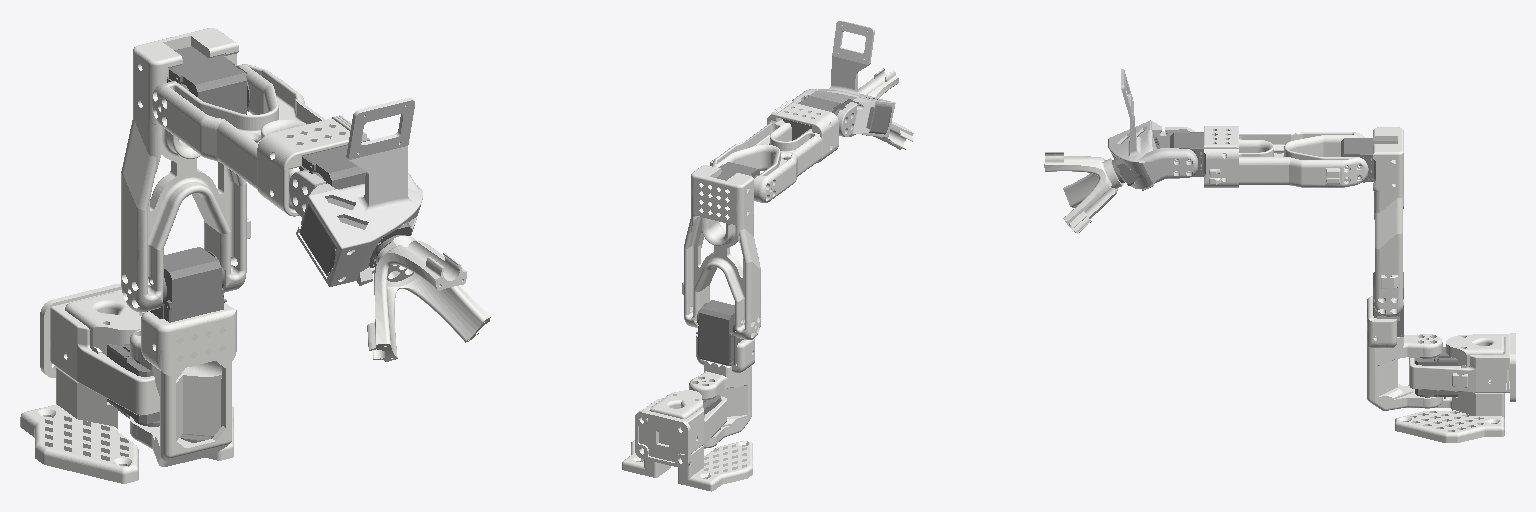
robot.urdf — debugger_arm:
<!--URDF generated by ONSHAPE BY PTC INC, 1.222-->
<robot name="debugger_arm">
    <link name="base__1_">
        <inertial>
            <mass value="1e-09" />
            <origin xyz="0 0 0" rpy="0 -0 0" />
            <inertia ixx="4e-14" ixy="0" ixz="0" iyy="4e-14" iyz="0" izz="4e-14" />
        </inertial>
    </link>
    <link name="base_mount">
        <inertial>
            <mass value="7.95519e-05" />
            <origin xyz="-1.36887e-05 0.0300135 0.244735" rpy="0 -0 0" />
            <inertia ixx="6.86392e-08" ixy="-5.77474e-12" ixz="-2.51909e-11" iyy="8.00402e-08" iyz="1.28031e-08" izz="7.96026e-08" />
        </inertial>
        <visual>
            <origin xyz="0 0 0" rpy="0 -0 0" />
            <geometry>
                <mesh filename="package://debugger_arm/meshes/base_mount.stl" scale="1 1 1" />
            </geometry>
            <material name="0.964706_0.964706_0.952941_0.000000_0.000000">
                <color rgba="0.964706 0.964706 0.952941 1" />
            </material>
        </visual>
    </link>
    <link name="motor_holder_so101_wrist_v1_1__实体1">
        <inertial>
            <mass value="1.36708e-05" />
            <origin xyz="-0.002561 0.0113496 0.0164718" rpy="0 -0 0" />
            <inertia ixx="7.44577e-09" ixy="1.14218e-11" ixz="-1.7454e-12" iyy="5.87482e-09" iyz="2.91402e-11" izz="3.3486e-09" />
        </inertial>
        <visual>
            <origin xyz="0.0372499 0.04745 0.0166" rpy="0 -0 0" />
            <geometry>
                <mesh filename="package://debugger_arm/meshes/Motor_holder_SO101_Wrist_v1_1____1.stl" scale="1 1 1" />
            </geometry>
            <material name="0.964706_0.964706_0.952941_0.000000_0.000000">
                <color rgba="0.964706 0.964706 0.952941 1" />
            </material>
        </visual>
    </link>
    <link name="part_3">
        <inertial>
            <mass value="3.13297e-05" />
            <origin xyz="0.0200678 0.000498329 -0.0262571" rpy="0 -0 0" />
            <inertia ixx="1.8757e-08" ixy="8.0332e-10" ixz="2.13065e-09" iyy="2.04322e-08" iyz="1.26817e-09" izz="2.13861e-08" />
        </inertial>
        <visual>
            <origin xyz="-0.1374 -0.000308994 -0.0169166" rpy="0 -0 0" />
            <geometry>
                <mesh filename="package://debugger_arm/meshes/Part_3.stl" scale="1 1 1" />
            </geometry>
            <material name="0.917647_0.917647_0.917647_0.000000_0.000000">
                <color rgba="0.917647 0.917647 0.917647 1" />
            </material>
        </visual>
    </link>
    <link name="probe_tip">
        <inertial>
            <mass value="1e-09" />
            <origin xyz="0 0 0" rpy="0 -0 0" />
            <inertia ixx="4e-14" ixy="0" ixz="0" iyy="4e-14" iyz="0" izz="4e-14" />
        </inertial>
    </link>
    <link name="root">
        <inertial>
            <mass value="2.96998e-05" />
            <origin xyz="-0.0542807 0.139364 -0.0138119" rpy="0 -0 0" />
            <inertia ixx="2.44606e-08" ixy="4.6053e-10" ixz="-4.66638e-12" iyy="1.06942e-08" iyz="-1.50145e-09" izz="2.98909e-08" />
        </inertial>
        <visual>
            <origin xyz="-0.0541649 0.169704 -0.015181" rpy="1.5708 2.26534e-15 1.41294e-14" />
            <geometry>
                <mesh filename="package://debugger_arm/meshes/WaveShare_Mounting_Plate_SO101_v1_1____1.stl" scale="1 1 1" />
            </geometry>
            <material name="0.964706_0.964706_0.952941_0.000000_0.000000">
                <color rgba="0.964706 0.964706 0.952941 1" />
            </material>
        </visual>
        <visual>
            <origin xyz="-0.0540649 0.145086 -0.064981" rpy="1.5708 2.26534e-15 1.41294e-14" />
            <geometry>
                <mesh filename="package://debugger_arm/meshes/Base_motor_holder_SO101_v1_1____1.stl" scale="1 1 1" />
            </geometry>
            <material name="0.964706_0.964706_0.952941_0.000000_0.000000">
                <color rgba="0.964706 0.964706 0.952941 1" />
            </material>
        </visual>
    </link>
    <link name="rotation_pitch_so101_v1_1__实体1">
        <inertial>
            <mass value="4.32671e-05" />
            <origin xyz="-0.027796 0.0297539 -0.000181563" rpy="0 -0 0" />
            <inertia ixx="3.35791e-08" ixy="4.64995e-09" ixz="-3.88492e-11" iyy="1.62639e-08" iyz="2.28939e-10" izz="3.73362e-08" />
        </inertial>
        <visual>
            <origin xyz="0.012 -0.01 -2.63299e-18" rpy="0 -0 0" />
            <geometry>
                <mesh filename="package://debugger_arm/meshes/Rotation_Pitch_SO101_v1_1____1.stl" scale="1 1 1" />
            </geometry>
            <material name="0.964706_0.964706_0.952941_0.000000_0.000000">
                <color rgba="0.964706 0.964706 0.952941 1" />
            </material>
        </visual>
    </link>
    <link name="sts3215_03a_v1_1__实体1">
        <inertial>
            <mass value="3.6217e-05" />
            <origin xyz="0.019999 0.01025 0.0160271" rpy="0 -0 0" />
            <inertia ixx="5.06055e-09" ixy="0" ixz="-7.09424e-11" iyy="9.36156e-09" iyz="0" izz="7.83908e-09" />
        </inertial>
        <visual>
            <origin xyz="0.0203 0.01025 0.0159" rpy="0 -0 0" />
            <geometry>
                <mesh filename="package://debugger_arm/meshes/STS3215_03a_v1_1____1.stl" scale="1 1 1" />
            </geometry>
            <material name="0.627451_0.627451_0.627451_0.000000_0.000000">
                <color rgba="0.627451 0.627451 0.627451 1" />
            </material>
        </visual>
    </link>
    <link name="sts3215_03a_v1_1__实体1_1">
        <inertial>
            <mass value="3.6217e-05" />
            <origin xyz="0.019999 0.01025 0.0160271" rpy="0 -0 0" />
            <inertia ixx="5.06055e-09" ixy="0" ixz="-7.09424e-11" iyy="9.36156e-09" iyz="0" izz="7.83908e-09" />
        </inertial>
        <visual>
            <origin xyz="0.0203 0.01025 0.0159" rpy="0 -0 0" />
            <geometry>
                <mesh filename="package://debugger_arm/meshes/STS3215_03a_v1_1____1.stl" scale="1 1 1" />
            </geometry>
            <material name="0.627451_0.627451_0.627451_0.000000_0.000000">
                <color rgba="0.627451 0.627451 0.627451 1" />
            </material>
        </visual>
    </link>
    <link name="sts3215_03a_v1_1__实体1_2">
        <inertial>
            <mass value="3.6217e-05" />
            <origin xyz="0.016199 0.01025 -0.0157729" rpy="0 -0 0" />
            <inertia ixx="5.06055e-09" ixy="0" ixz="-7.09424e-11" iyy="9.36156e-09" iyz="0" izz="7.83908e-09" />
        </inertial>
        <visual>
            <origin xyz="0.0165 0.01025 -0.0159" rpy="0 -0 0" />
            <geometry>
                <mesh filename="package://debugger_arm/meshes/STS3215_03a_v1_1____1.stl" scale="1 1 1" />
            </geometry>
            <material name="0.627451_0.627451_0.627451_0.000000_0.000000">
                <color rgba="0.627451 0.627451 0.627451 1" />
            </material>
        </visual>
    </link>
    <link name="sts3215_03a_v1_1__实体1_3">
        <inertial>
            <mass value="3.6217e-05" />
            <origin xyz="0.019999 -0.01025 0.0160271" rpy="0 -0 0" />
            <inertia ixx="5.06055e-09" ixy="0" ixz="-7.09424e-11" iyy="9.36156e-09" iyz="0" izz="7.83908e-09" />
        </inertial>
        <visual>
            <origin xyz="0.0203 -0.01025 0.0159" rpy="0 -0 0" />
            <geometry>
                <mesh filename="package://debugger_arm/meshes/STS3215_03a_v1_1____1.stl" scale="1 1 1" />
            </geometry>
            <material name="0.627451_0.627451_0.627451_0.000000_0.000000">
                <color rgba="0.627451 0.627451 0.627451 1" />
            </material>
        </visual>
    </link>
    <link name="sts3215_03a_v1_1__实体1_4">
        <inertial>
            <mass value="3.6217e-05" />
            <origin xyz="0.019999 0.01025 0.0160271" rpy="0 -0 0" />
            <inertia ixx="5.06055e-09" ixy="0" ixz="-7.09424e-11" iyy="9.36156e-09" iyz="0" izz="7.83908e-09" />
        </inertial>
        <visual>
            <origin xyz="0.0203 0.01025 0.0159" rpy="0 -0 0" />
            <geometry>
                <mesh filename="package://debugger_arm/meshes/STS3215_03a_v1_1____1.stl" scale="1 1 1" />
            </geometry>
            <material name="0.627451_0.627451_0.627451_0.000000_0.000000">
                <color rgba="0.627451 0.627451 0.627451 1" />
            </material>
        </visual>
    </link>
    <link name="under_arm_so101_v1_1__实体1">
        <inertial>
            <mass value="6.37298e-05" />
            <origin xyz="-0.0568458 0.000467419 0.0186315" rpy="0 -0 0" />
            <inertia ixx="2.68292e-08" ixy="1.59417e-09" ixz="-7.83539e-10" iyy="9.84162e-08" iyz="3.1365e-11" izz="7.65192e-08" />
        </inertial>
        <visual>
            <origin xyz="-0.0648499 0.032 0.0182" rpy="0 -0 0" />
            <geometry>
                <mesh filename="package://debugger_arm/meshes/Under_arm_SO101_v1_1____1.stl" scale="1 1 1" />
            </geometry>
            <material name="0.964706_0.964706_0.952941_0.000000_0.000000">
                <color rgba="0.964706 0.964706 0.952941 1" />
            </material>
        </visual>
    </link>
    <link name="upper_arm_so101_v1_1__实体1">
        <inertial>
            <mass value="7.40352e-05" />
            <origin xyz="-0.063848 -0.00047956 0.0182038" rpy="0 -0 0" />
            <inertia ixx="3.44934e-08" ixy="-1.83226e-09" ixz="1.39492e-09" iyy="1.50594e-07" iyz="-6.73822e-11" izz="1.21727e-07" />
        </inertial>
        <visual>
            <origin xyz="-0.065085 -0.012 0.0182" rpy="0 -0 0" />
            <geometry>
                <mesh filename="package://debugger_arm/meshes/Upper_arm_SO101_v1_1____1.stl" scale="1 1 1" />
            </geometry>
            <material name="0.964706_0.964706_0.952941_0.000000_0.000000">
                <color rgba="0.964706 0.964706 0.952941 1" />
            </material>
        </visual>
    </link>
    <link name="wrist_roll_so101_v1_1__实体1">
        <inertial>
            <mass value="1.65318e-05" />
            <origin xyz="5.89928e-05 1.34204e-06 0.0229635" rpy="0 -0 0" />
            <inertia ixx="7.02425e-09" ixy="-1.20767e-12" ixz="2.42336e-11" iyy="7.01651e-09" iyz="-3.57081e-13" izz="7.23367e-09" />
        </inertial>
        <visual>
            <origin xyz="-0.202 0 0" rpy="0 -0 0" />
            <geometry>
                <mesh filename="package://debugger_arm/meshes/Wrist_Roll_SO101_v1_1____1.stl" scale="1 1 1" />
            </geometry>
            <material name="0.964706_0.964706_0.952941_0.000000_0.000000">
                <color rgba="0.964706 0.964706 0.952941 1" />
            </material>
        </visual>
    </link>
    <joint name="base__1_" type="fixed">
        <origin xyz="-0.03175 0.0094 0.2255" rpy="-1.5708 7.88861e-31 1.03288e-29" />
        <axis xyz="0 0 1" />
        <parent link="base_mount" />
        <child link="base__1_" />
    </joint>
    <joint name="fastened_1" type="fixed">
        <origin xyz="0.0486 -0.0242842 -0.0453271" rpy="-2.70526 8.68911e-16 -3.14159" />
        <axis xyz="0 0 1" />
        <parent link="part_3" />
        <child link="sts3215_03a_v1_1__实体1_2" />
    </joint>
    <joint name="fastened_1__1_" type="fixed">
        <origin xyz="-0.04085 0.0578 0.0165" rpy="-3.14159 -7.86286e-16 1.5708" />
        <axis xyz="0 0 -1" />
        <parent link="rotation_pitch_so101_v1_1__实体1" />
        <child link="sts3215_03a_v1_1__实体1_4" />
    </joint>
    <joint name="fastened_3__1_" type="fixed">
        <origin xyz="-0.12282 -0.0048 0.0018" rpy="-5.78446e-16 1.14012e-15 1.5708" />
        <axis xyz="0 0 -1" />
        <parent link="upper_arm_so101_v1_1__实体1" />
        <child link="sts3215_03a_v1_1__实体1_3" />
    </joint>
    <joint name="fastened_4__1_" type="fixed">
        <origin xyz="-0.1021 0.00505 0.0016" rpy="1.11022e-16 -5.55112e-17 3.14159" />
        <axis xyz="0 0 -1" />
        <parent link="under_arm_so101_v1_1__实体1" />
        <child link="sts3215_03a_v1_1__实体1_1" />
    </joint>
    <joint name="fastened_5__1_" type="fixed">
        <origin xyz="2.77556e-17 0.0205 6.93889e-18" rpy="-1.19601e-15 -1.00243e-16 3.14159" />
        <axis xyz="-1.70061e-31 -9.63735e-16 1" />
        <parent link="sts3215_03a_v1_1__实体1_1" />
        <child link="motor_holder_so101_wrist_v1_1__实体1" />
    </joint>
    <joint name="fastened_8__1_" type="fixed">
        <origin xyz="-0.01025 0.03 0.2454" rpy="0 -1.5708 4.71239" />
        <axis xyz="-0 -0 -1" />
        <parent link="base_mount" />
        <child link="sts3215_03a_v1_1__实体1" />
    </joint>
    <joint name="fixed_node_to_root_joint" type="fixed">
        <origin xyz="-0.0539654 0.378086 -0.064781" rpy="1.5708 6.252e-17 1.41907e-14" />
        <axis xyz="0 0 1" />
        <parent link="root" />
        <child link="base_mount" />
    </joint>
    <joint name="probe_tip" type="fixed">
        <origin xyz="-6.7245e-05 0.0581978 0.0964936" rpy="-0.428407 -0.000499021 0.0002279" />
        <axis xyz="0 0 1" />
        <parent link="wrist_roll_so101_v1_1__实体1" />
        <child link="probe_tip" />
    </joint>
    <joint name="revolute_1" type="continuous">
        <origin xyz="0.0328 0.01025 -0.0018" rpy="0 -1.5708 3.33067e-16" />
        <axis xyz="1 0 0" />
        <parent link="sts3215_03a_v1_1__实体1_1" />
        <child link="part_3" />
    </joint>
    <joint name="revolute_1__1_" type="continuous">
        <origin xyz="0.0328 0.01025 -0.0018" rpy="1.5708 -3.33067e-16 -3.14159" />
        <axis xyz="0 1 0" />
        <parent link="sts3215_03a_v1_1__实体1" />
        <child link="rotation_pitch_so101_v1_1__实体1" />
    </joint>
    <joint name="revolute_2" type="continuous">
        <origin xyz="0.029 0.01025 0.00390707" rpy="3.02536e-15 6.00951e-16 1.67079e-16" />
        <axis xyz="0 0 -1" />
        <parent link="sts3215_03a_v1_1__实体1_2" />
        <child link="wrist_roll_so101_v1_1__实体1" />
    </joint>
    <joint name="revolute_2__1_" type="continuous">
        <origin xyz="0.0328 0.01025 -0.0018" rpy="-1.21318e-15 3.16352e-15 -3.14159" />
        <axis xyz="0 0 1" />
        <parent link="sts3215_03a_v1_1__实体1_4" />
        <child link="upper_arm_so101_v1_1__实体1" />
    </joint>
    <joint name="revolute_3__1_" type="continuous">
        <origin xyz="0.0328 -0.01025 -0.0018" rpy="2.16906e-15 8.32645e-16 3.14159" />
        <axis xyz="0 0 1" />
        <parent link="sts3215_03a_v1_1__实体1_3" />
        <child link="under_arm_so101_v1_1__实体1" />
    </joint>
</robot>

--- What the picture shows (computed from the rendered views, not written in the file) ---
Views: 3 orthographic renders of the robot side by side, from view 1: azimuth 30°, elevation 25°; view 2: azimuth 150°, elevation 25°; view 3: azimuth 270°, elevation 25°.
Model debugger_arm with 15 links and 14 joints (5 continuous, 9 fixed), rooted at root, posed all joints at 0.
Links seen in each view (by area): view 1: upper_arm_so101_v1_1__实体1, rotation_pitch_so101_v1_1__实体1, part_3, base_mount, under_arm_so101_v1_1__实体1, wrist_roll_so101_v1_1__实体1, root, motor_holder_so101_wrist_v1_1__实体1, sts3215_03a_v1_1__实体1_4, sts3215_03a_v1_1__实体1_3, sts3215_03a_v1_1__实体1_2, sts3215_03a_v1_1__实体1_1 (+1 smaller); view 2: upper_arm_so101_v1_1__实体1, under_arm_so101_v1_1__实体1, base_mount, root, part_3, rotation_pitch_so101_v1_1__实体1, sts3215_03a_v1_1__实体1_4, motor_holder_so101_wrist_v1_1__实体1, wrist_roll_so101_v1_1__实体1, sts3215_03a_v1_1__实体1_1, sts3215_03a_v1_1__实体1_2; view 3: under_arm_so101_v1_1__实体1, upper_arm_so101_v1_1__实体1, base_mount, rotation_pitch_so101_v1_1__实体1, part_3, root, wrist_roll_so101_v1_1__实体1, motor_holder_so101_wrist_v1_1__实体1, sts3215_03a_v1_1__实体1_3, sts3215_03a_v1_1__实体1_1, sts3215_03a_v1_1__实体1.
Link boxes in pixels (left/top/right/bottom): upper_arm_so101_v1_1__实体1: left=121, top=28, right=250, bottom=312; rotation_pitch_so101_v1_1__实体1: left=130, top=303, right=236, bottom=466; part_3: left=289, top=97, right=422, bottom=286; base_mount: left=20, top=291, right=233, bottom=483; under_arm_so101_v1_1__实体1: left=152, top=64, right=324, bottom=209; wrist_roll_so101_v1_1__实体1: left=367, top=236, right=491, bottom=361; root: left=40, top=284, right=159, bottom=415; motor_holder_so101_wrist_v1_1__实体1: left=257, top=115, right=369, bottom=216; sts3215_03a_v1_1__实体1_4: left=147, top=247, right=226, bottom=322; sts3215_03a_v1_1__实体1_3: left=167, top=46, right=249, bottom=114; sts3215_03a_v1_1__实体1_2: left=300, top=198, right=411, bottom=275; sts3215_03a_v1_1__实体1_1: left=299, top=145, right=365, bottom=188; upper_arm_so101_v1_1__实体1: left=682, top=165, right=760, bottom=339; under_arm_so101_v1_1__实体1: left=710, top=119, right=821, bottom=202; base_mount: left=622, top=390, right=752, bottom=491; root: left=635, top=396, right=726, bottom=468; part_3: left=792, top=21, right=895, bottom=137; rotation_pitch_so101_v1_1__实体1: left=689, top=334, right=754, bottom=448; sts3215_03a_v1_1__实体1_4: left=696, top=300, right=743, bottom=365; motor_holder_so101_wrist_v1_1__实体1: left=767, top=100, right=838, bottom=162; wrist_roll_so101_v1_1__实体1: left=848, top=68, right=913, bottom=149; sts3215_03a_v1_1__实体1_1: left=783, top=96, right=842, bottom=140; sts3215_03a_v1_1__实体1_2: left=842, top=99, right=891, bottom=134; under_arm_so101_v1_1__实体1: left=1204, top=132, right=1368, bottom=187; upper_arm_so101_v1_1__实体1: left=1373, top=127, right=1403, bottom=316; base_mount: left=1395, top=335, right=1504, bottom=442; rotation_pitch_so101_v1_1__实体1: left=1367, top=296, right=1442, bottom=410; part_3: left=1108, top=69, right=1197, bottom=190; root: left=1409, top=333, right=1515, bottom=401; wrist_roll_so101_v1_1__实体1: left=1044, top=152, right=1123, bottom=233; motor_holder_so101_wrist_v1_1__实体1: left=1204, top=126, right=1238, bottom=187; sts3215_03a_v1_1__实体1_3: left=1341, top=138, right=1397, bottom=182; sts3215_03a_v1_1__实体1_1: left=1170, top=132, right=1205, bottom=176; sts3215_03a_v1_1__实体1: left=1415, top=347, right=1457, bottom=398.
Size in the robot's own frame: 0.1109 by 0.3732 by 0.2925 metres.
Meshes: 10 distinct files referenced, 14 mesh visuals loaded (10 binary STL).
